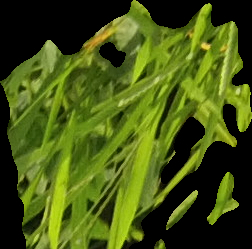grass: (1, 1, 250, 247)
